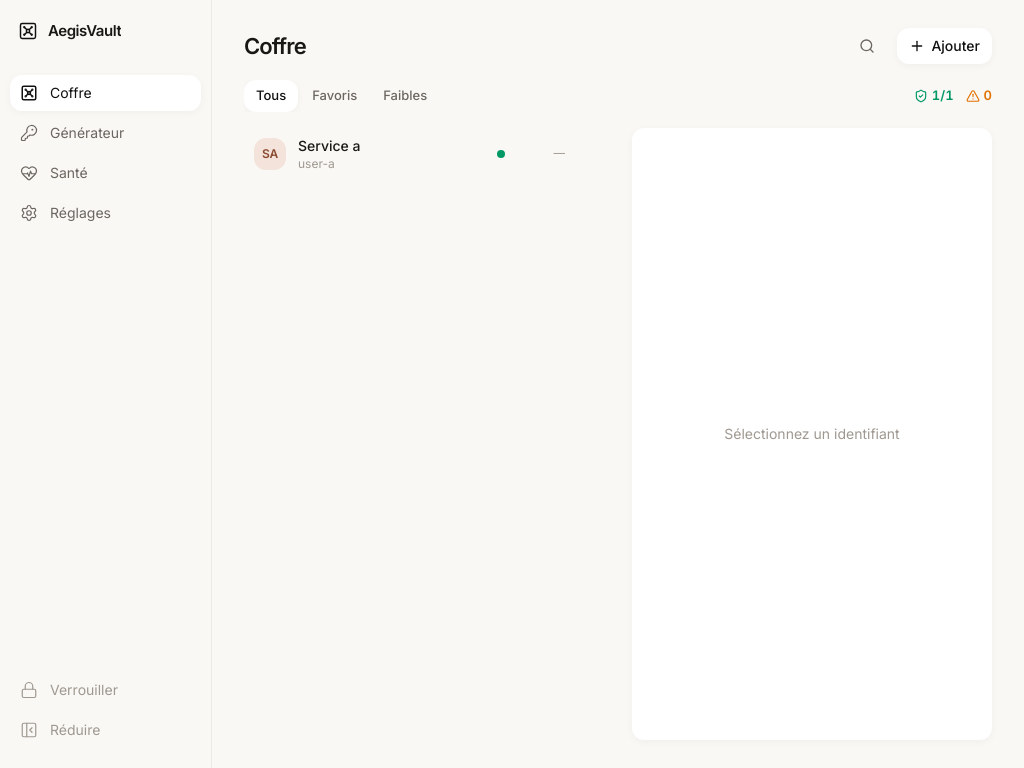
Test: MainLayout empty states › offers to clear the query when a search matches nothing
Click the button named "Rechercher".
click(867, 46)  # box [849,28,885,64]
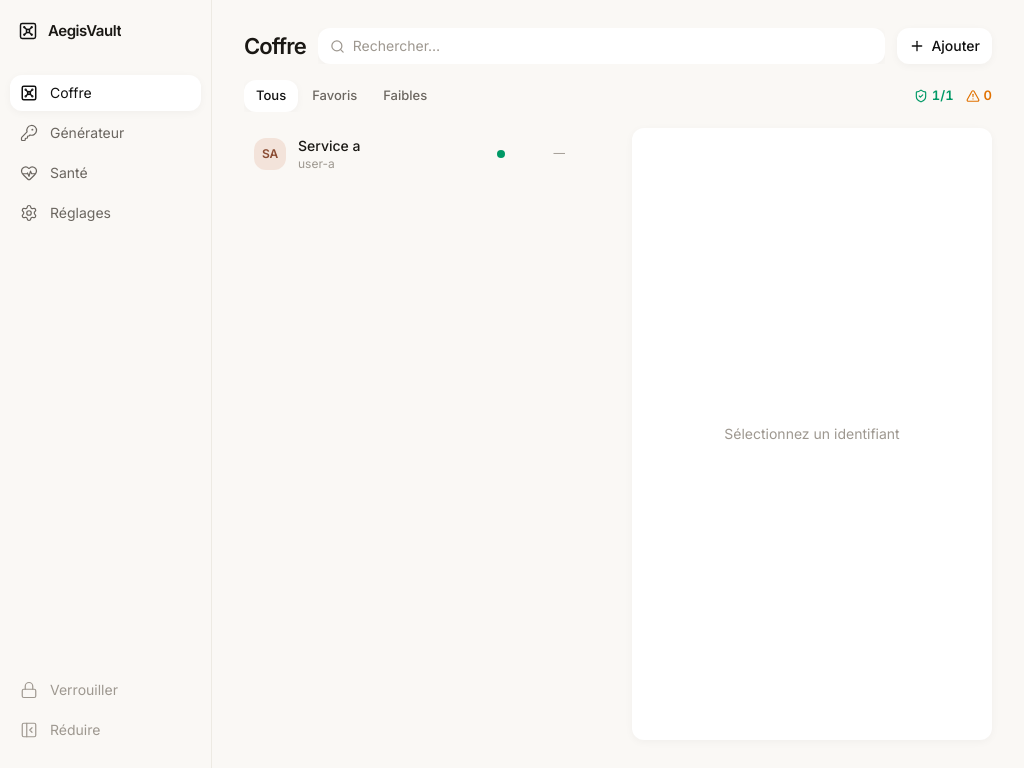
Type "zzz" into the field named "Rechercher dans le coffre".
click(613, 46); type("zzz")  # box [353,36,873,56]
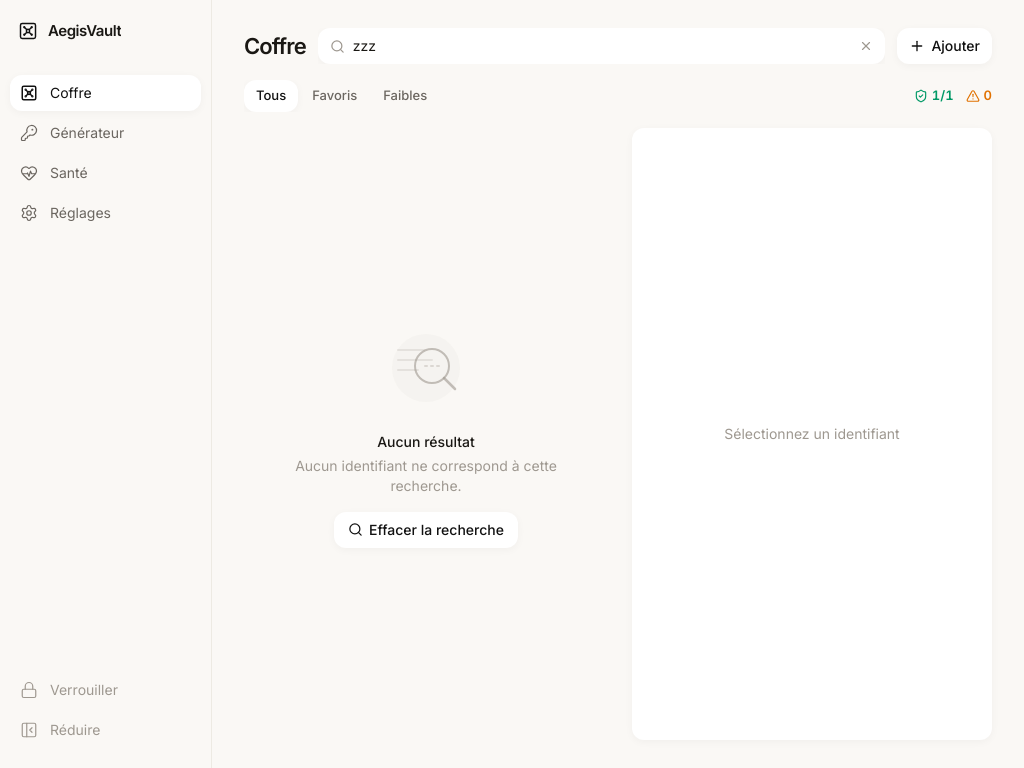
Expected: the text "Aucun résultat" is shown, [377,432,475,452]
Click the button "Effacer la recherche".
click(426, 530)  # box [334,512,518,548]
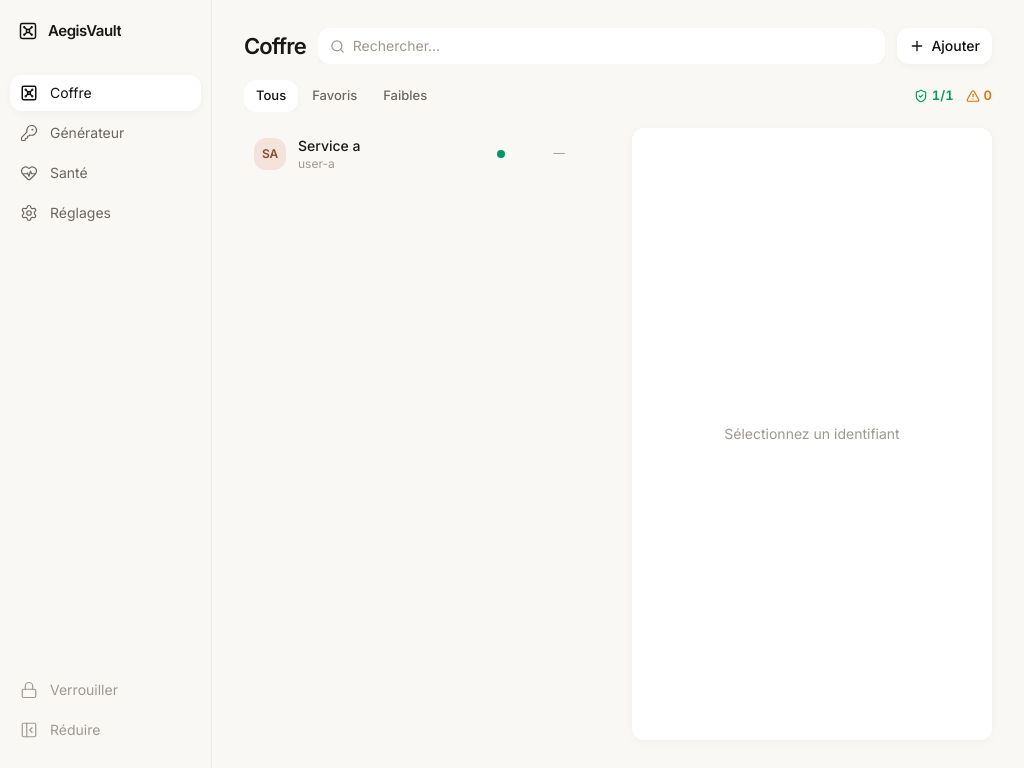
Expected: the text "Service a" is shown, [298,136,360,154]
